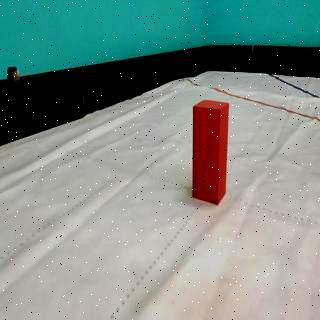redbox: (193, 98, 229, 205)
